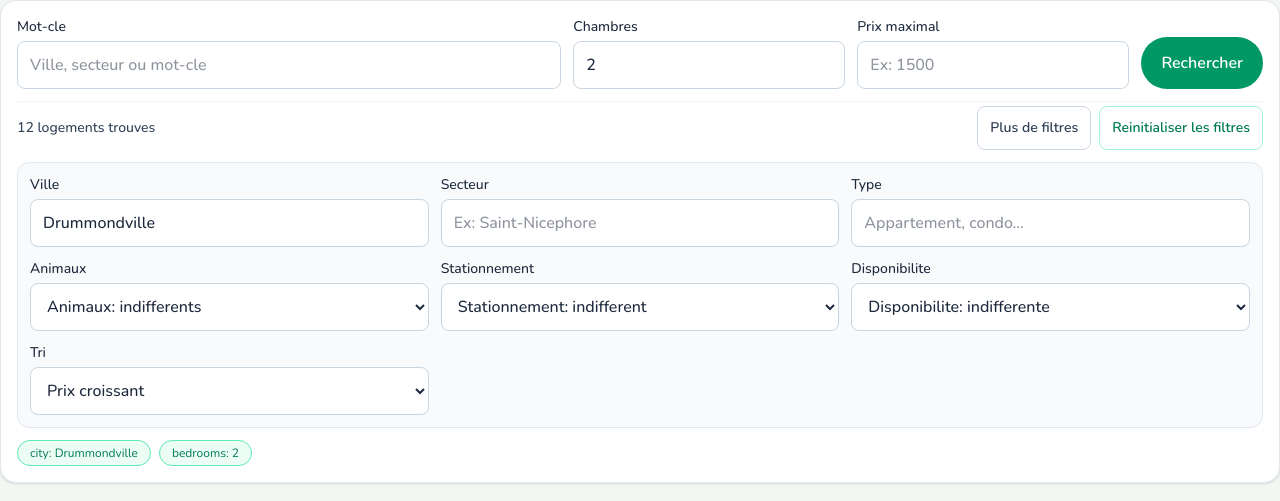
Test case: listing search UI › toggles advanced filters with mobile-first labels
Click the button "Plus de filtres" at (1034, 128), box left=977, top=106, right=1091, bottom=150
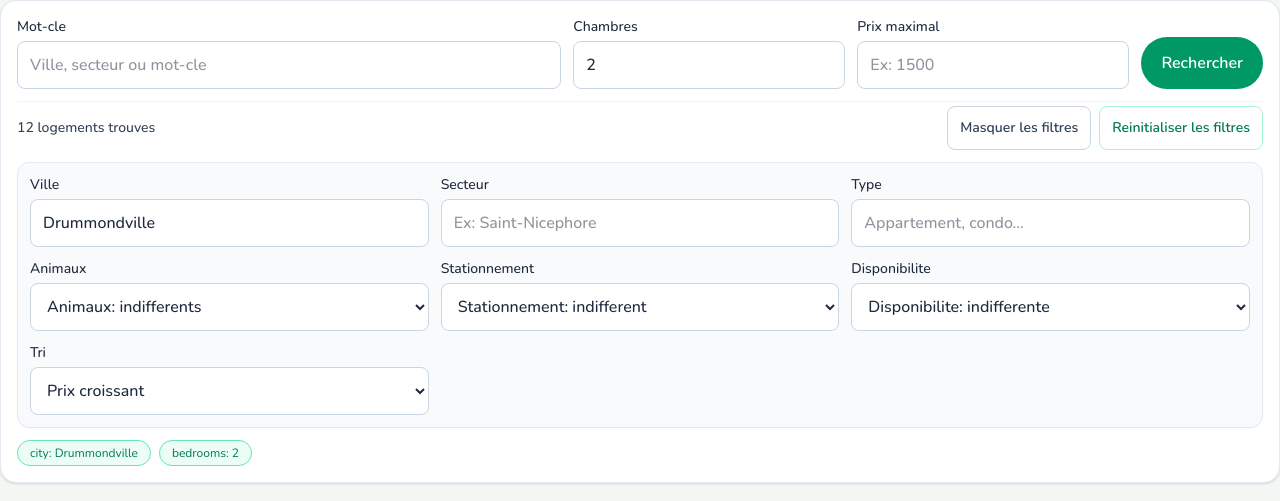
Expected: the text "12 logements trouves" is shown, left=17, top=118, right=155, bottom=137
Now the button "Masquer les filtres" is shown, box left=947, top=106, right=1091, bottom=150
